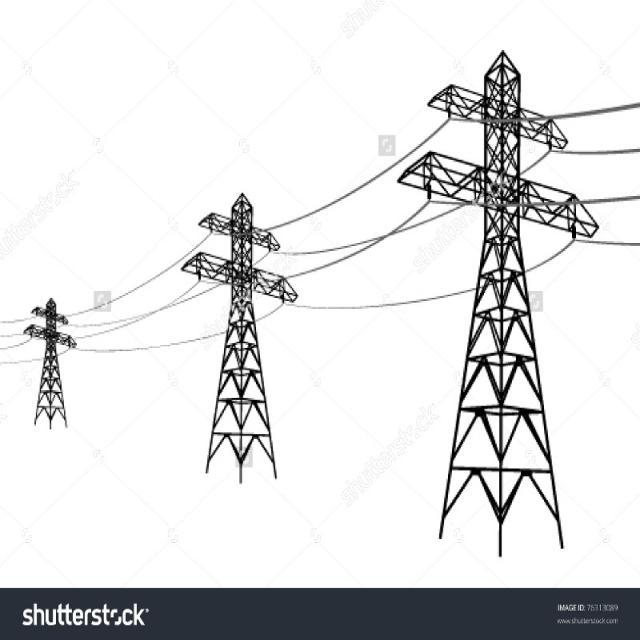non-critical vegetation: (416, 54, 581, 560), (183, 190, 299, 480), (31, 286, 78, 430)
